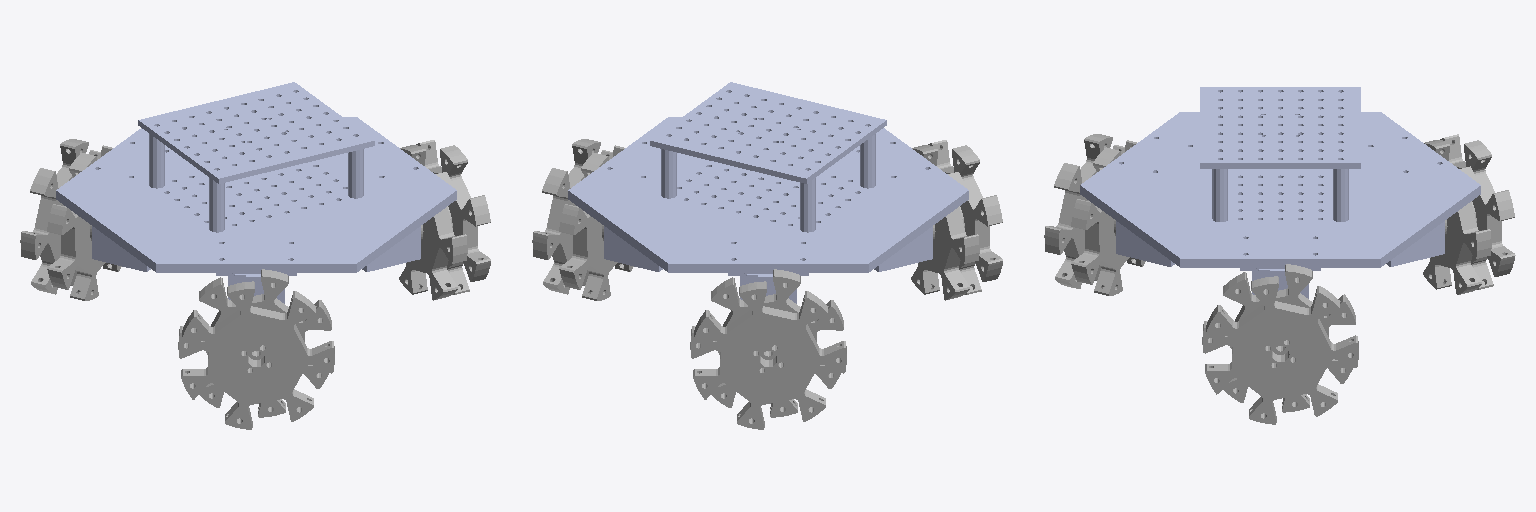
URDF robot description (allwheel_urdf):
<?xml version="1.0"?>
<!-- Generated by SolidWorks URDF exporter; mesh paths fixed for Gazebo classic -->
<robot name="allwheel_urdf">

  <!-- ========================= -->
  <!--   Dummy root to avoid KDL root-inertia warning -->
  <!-- ========================= -->
  <link name="base_footprint"/>

  <joint name="base_footprint_to_base_link" type="fixed">
    <origin xyz="0 0 0" rpy="0 0 0"/>
    <parent link="base_footprint"/>
    <child link="base_link"/>
  </joint>

  <!-- ========================= -->
  <!--   Mesh dir via package://  -->
  <!-- ========================= -->
  <!-- MESH_DIR = package://all_wheel_description/meshes -->

  <link name="base_link">
    <inertial>
      <origin xyz="3.2612801348364E-15 2.98274859672487E-15 -0.0102615683558075" rpy="0 0 0"/>
      <mass value="0.255742000192013"/>
      <inertia
        ixx="0.000302796409258888"
        ixy="-3.92027771042362E-19"
        ixz="-1.46296662392844E-19"
        iyy="0.000302202648247359"
        iyz="-9.95263713023803E-20"
        izz="0.000556226204689963"/>
    </inertial>

    <visual>
      <origin xyz="0 0 0" rpy="0 0 0"/>
      <geometry>
        <mesh filename="package://all_wheel_description/meshes/base_link.STL"/>
      </geometry>
      <material name="">
        <color rgba="0.792156862745098 0.819607843137255 0.933333333333333 1"/>
      </material>
    </visual>

    <collision>
      <origin xyz="0 0 0" rpy="0 0 0"/>
      <geometry>
        <mesh filename="package://all_wheel_description/meshes/base_link.STL"/>
      </geometry>
    </collision>
  </link>

  <link name="front_link">
    <inertial>
      <origin xyz="0.00291772242218888 -3.96001122382623E-17 3.67729594369733E-17" rpy="0 0 0"/>
      <mass value="0.109903140807102"/>
      <inertia
        ixx="2.82980917306225E-05"
        ixy="7.48060042323109E-22"
        ixz="-1.69854388671089E-21"
        iyy="1.73831765621433E-05"
        iyz="8.36445035413622E-21"
        izz="1.73831765621433E-05"/>
    </inertial>

    <visual>
      <origin xyz="0 0 0" rpy="0 0 0"/>
      <geometry>
        <mesh filename="package://all_wheel_description/meshes/front_link.STL"/>
      </geometry>
      <material name="">
        <color rgba="0.752941176470588 0.752941176470588 0.752941176470588 1"/>
      </material>
    </visual>

    <collision>
      <origin xyz="0 0 0" rpy="0 0 0"/>
      <geometry>
        <mesh filename="package://all_wheel_description/meshes/front_link.STL"/>
      </geometry>
    </collision>
  </link>

  <joint name="front_wheel_joint" type="continuous">
    <origin xyz="0.0990025403784439 0 -0.0351150000000006" rpy="0 0 0"/>
    <parent link="base_link"/>
    <child link="front_link"/>
    <axis xyz="1 0 0"/>
  </joint>

  <link name="right_Link">
    <inertial>
      <origin xyz="0.00291772242218893 -1.2490009027033E-16 3.36091510237884E-17" rpy="0 0 0"/>
      <mass value="0.109903140807102"/>
      <inertia
        ixx="2.82980917306225E-05"
        ixy="3.81164826264435E-21"
        ixz="-2.9926600267234E-21"
        iyy="1.73831765621433E-05"
        iyz="1.01781304777338E-20"
        izz="1.73831765621432E-05"/>
    </inertial>

    <visual>
      <origin xyz="0 0 0" rpy="0 0 0"/>
      <geometry>
        <mesh filename="package://all_wheel_description/meshes/right_Link.STL"/>
      </geometry>
      <material name="">
        <color rgba="0.752941176470588 0.752941176470588 0.752941176470588 1"/>
      </material>
    </visual>

    <collision>
      <origin xyz="0 0 0" rpy="0 0 0"/>
      <geometry>
        <mesh filename="package://all_wheel_description/meshes/right_Link.STL"/>
      </geometry>
    </collision>
  </link>

  <joint name="right_wheel_joint" type="continuous">
    <origin xyz="-0.0495012701892215 -0.0857387150069273 -0.0351150000000006" rpy="0 0 -2.09439510239319"/>
    <parent link="base_link"/>
    <child link="right_Link"/>
    <axis xyz="1 0 0"/>
  </joint>

  <link name="left_Link">
    <inertial>
      <origin xyz="0.00291772242218896 -8.32667268468867E-17 4.16322471001811E-17" rpy="0 0 0"/>
      <mass value="0.109903140807102"/>
      <inertia
        ixx="2.82980917306225E-05"
        ixy="8.470329472543E-22"
        ixz="-4.04814248834114E-21"
        iyy="1.73831765621433E-05"
        iyz="7.3114989324433E-21"
        izz="1.73831765621432E-05"/>
    </inertial>

    <visual>
      <origin xyz="0 0 0" rpy="0 0 0"/>
      <geometry>
        <mesh filename="package://all_wheel_description/meshes/left_Link.STL"/>
      </geometry>
      <material name="">
        <color rgba="0.752941176470588 0.752941176470588 0.752941176470588 1"/>
      </material>
    </visual>

    <collision>
      <origin xyz="0 0 0" rpy="0 0 0"/>
      <geometry>
        <mesh filename="package://all_wheel_description/meshes/left_Link.STL"/>
      </geometry>
    </collision>
  </link>

  <joint name="left_wheel_joint" type="continuous">
    <origin xyz="-0.049501270189222 0.085738715006927 -0.0351150000000006" rpy="0 0 2.0943951023932"/>
    <parent link="base_link"/>
    <child link="left_Link"/>
    <axis xyz="1 0 0"/>
  </joint>

  <gazebo reference="front_link">
    <mu1>3.0</mu1>
    <mu2>0.3</mu2>
    <fdir1>0 1 0</fdir1>
  </gazebo>

  <gazebo reference="right_Link">
    <mu1>3.0</mu1>
    <mu2>0.3</mu2>
    <fdir1>0 1 0</fdir1>
  </gazebo>

  <gazebo reference="left_Link">
    <mu1>3.0</mu1>
    <mu2>0.3</mu2>
    <fdir1>0 1 0</fdir1>
  </gazebo>

  <link name="imu_Link">
    <inertial>
      <origin xyz="1.38777878078145E-17 -1.64798730217798E-17 0.00117501372111883" rpy="0 0 0"/>
      <mass value="0.0283869958164694"/>
      <inertia
        ixx="1.7330818944512E-05"
        ixy="-2.18905765877172E-21"
        ixz="4.09211601360512E-22"
        iyy="2.3993887620163E-05"
        iyz="-1.50877743729675E-21"
        izz="3.82718524716327E-05"/>
    </inertial>

    <visual>
      <origin xyz="0 0 0" rpy="0 0 0"/>
      <geometry>
        <mesh filename="package://all_wheel_description/meshes/imu_Link.STL"/>
      </geometry>
      <material name="">
        <color rgba="0.792156862745098 0.819607843137255 0.933333333333333 1"/>
      </material>
    </visual>

    <collision>
      <origin xyz="0 0 0" rpy="0 0 0"/>
      <geometry>
        <mesh filename="package://all_wheel_description/meshes/imu_Link.STL"/>
      </geometry>
    </collision>
  </link>

  <joint name="imu_joint" type="fixed">
    <origin xyz="0 0 0.032" rpy="0 0 0"/>
    <parent link="base_link"/>
    <child link="imu_Link"/>
    <axis xyz="0 0 0"/>
  </joint>

  <link name="left_camera_link">
    <inertial>
      <origin xyz="0 0 0" rpy="0 0 0"/>
      <mass value="0.02"/>
      <inertia ixx="1e-05" ixy="0" ixz="0" iyy="1e-05" iyz="0" izz="1e-05"/>
    </inertial>
  </link>

  <joint name="left_camera_joint" type="fixed">
    <origin xyz="0.12 0.05 0.10" rpy="0 0 0"/>
    <parent link="base_link"/>
    <child link="left_camera_link"/>
  </joint>

  <link name="right_camera_link">
    <inertial>
      <origin xyz="0 0 0" rpy="0 0 0"/>
      <mass value="0.02"/>
      <inertia ixx="1e-05" ixy="0" ixz="0" iyy="1e-05" iyz="0" izz="1e-05"/>
    </inertial>
  </link>

  <joint name="right_camera_joint" type="fixed">
    <origin xyz="0.12 -0.05 0.10" rpy="0 0 0"/>
    <parent link="base_link"/>
    <child link="right_camera_link"/>
  </joint>
  <gazebo reference="imu_Link">
    <sensor name="imu_sensor" type="imu">
      <always_on>true</always_on>
      <update_rate>100.0</update_rate>
      <imu>
        <angular_velocity>
          <x>
            <noise type="gaussian">
              <mean>0.0</mean>
              <stddev>0.0002</stddev>
            </noise>
          </x>
          <y>
            <noise type="gaussian">
              <mean>0.0</mean>
              <stddev>0.0002</stddev>
            </noise>
          </y>
          <z>
            <noise type="gaussian">
              <mean>0.0</mean>
              <stddev>0.0002</stddev>
            </noise>
          </z>
        </angular_velocity>
        <linear_acceleration>
          <x>
            <noise type="gaussian">
              <mean>0.0</mean>
              <stddev>0.0003</stddev>
            </noise>
          </x>
          <y>
            <noise type="gaussian">
              <mean>0.0</mean>
              <stddev>0.0003</stddev>
            </noise>
          </y>
          <z>
            <noise type="gaussian">
              <mean>0.0</mean>
              <stddev>0.0003</stddev>
            </noise>
          </z>
        </linear_acceleration>
      </imu>
      <plugin name="gazebo_ros_imu" filename="libgazebo_ros_imu_sensor.so">
        <ros>
          <remapping>~/out:=imu/data</remapping>
        </ros>
        <frame_name>imu_Link</frame_name>
      </plugin>
    </sensor>
  </gazebo>

  <gazebo reference="left_camera_link">
    <sensor name="left_camera" type="camera">
      <pose>0 0 0 0 0 0</pose>
      <always_on>true</always_on>
      <update_rate>30.0</update_rate>
      <camera>
        <horizontal_fov>1.047</horizontal_fov>
        <image>
          <width>640</width>
          <height>480</height>
          <format>R8G8B8</format>
        </image>
        <clip>
          <near>0.02</near>
          <far>30.0</far>
        </clip>
      </camera>
      <plugin name="gazebo_ros_left_camera" filename="libgazebo_ros_camera.so">
        <ros>
          <namespace>/stereo/left</namespace>
        </ros>
        <camera_name>left</camera_name>
        <frame_name>left_camera_link</frame_name>
      </plugin>
    </sensor>
  </gazebo>

  <gazebo reference="right_camera_link">
    <sensor name="right_camera" type="camera">
      <pose>0 0 0 0 0 0</pose>
      <always_on>true</always_on>
      <update_rate>30.0</update_rate>
      <camera>
        <horizontal_fov>1.047</horizontal_fov>
        <image>
          <width>640</width>
          <height>480</height>
          <format>R8G8B8</format>
        </image>
        <clip>
          <near>0.02</near>
          <far>30.0</far>
        </clip>
      </camera>
      <plugin name="gazebo_ros_right_camera" filename="libgazebo_ros_camera.so">
        <ros>
          <namespace>/stereo/right</namespace>
        </ros>
        <camera_name>right</camera_name>
        <frame_name>right_camera_link</frame_name>
      </plugin>
    </sensor>
  </gazebo>

  <ros2_control name="GazeboSystem" type="system">
    <hardware>
      <plugin>gazebo_ros2_control/GazeboSystem</plugin>
    </hardware>
    <joint name="front_wheel_joint">
      <command_interface name="velocity"/>
      <state_interface name="position"/>
      <state_interface name="velocity"/>
    </joint>
    <joint name="right_wheel_joint">
      <command_interface name="velocity"/>
      <state_interface name="position"/>
      <state_interface name="velocity"/>
    </joint>
    <joint name="left_wheel_joint">
      <command_interface name="velocity"/>
      <state_interface name="position"/>
      <state_interface name="velocity"/>
    </joint>
  </ros2_control>

  <gazebo>
    <plugin name="gazebo_ros2_control" filename="libgazebo_ros2_control.so">
      <parameters>[local-path]/code/ROS/ALL_WHEEL_CHASSIS/install/all_wheel_description/share/all_wheel_description/config/ros2_controllers.yaml</parameters>
    </plugin>
  </gazebo>
</robot>

--- What the picture shows (computed from the rendered views, not written in the file) ---
The picture shows the robot from 3 angles, left to right: view 1: azimuth 30°, elevation 25°; view 2: azimuth 150°, elevation 25°; view 3: azimuth 270°, elevation 25°; orthographic projection.
Model allwheel_urdf with 8 links and 7 joints (3 continuous, 4 fixed), rooted at base_footprint, posed all joints at 0.
Links seen in each view (by area): view 1: base_link, right_Link, imu_Link, front_link, left_Link; view 2: base_link, left_Link, imu_Link, right_Link, front_link; view 3: base_link, front_link, imu_Link, left_Link, right_Link.
Link boxes in pixels (left/top/right/bottom): base_link: left=56, top=117, right=456, bottom=303; right_Link: left=178, top=269, right=334, bottom=429; imu_Link: left=138, top=82, right=374, bottom=232; front_link: left=399, top=140, right=490, bottom=300; left_Link: left=20, top=139, right=121, bottom=300; base_link: left=568, top=117, right=968, bottom=303; left_Link: left=690, top=269, right=846, bottom=429; imu_Link: left=650, top=82, right=886, bottom=232; right_Link: left=911, top=140, right=1002, bottom=300; front_link: left=532, top=139, right=633, bottom=300; base_link: left=1080, top=112, right=1480, bottom=298; front_link: left=1202, top=264, right=1358, bottom=424; imu_Link: left=1200, top=87, right=1360, bottom=221; left_Link: left=1423, top=134, right=1515, bottom=294; right_Link: left=1044, top=134, right=1145, bottom=295.
Bounding box of the posed robot: 0.204 × 0.2349 × 0.1121 m (x, y, z).
5 mesh visuals loaded from 5 distinct referenced files (5 binary STL).